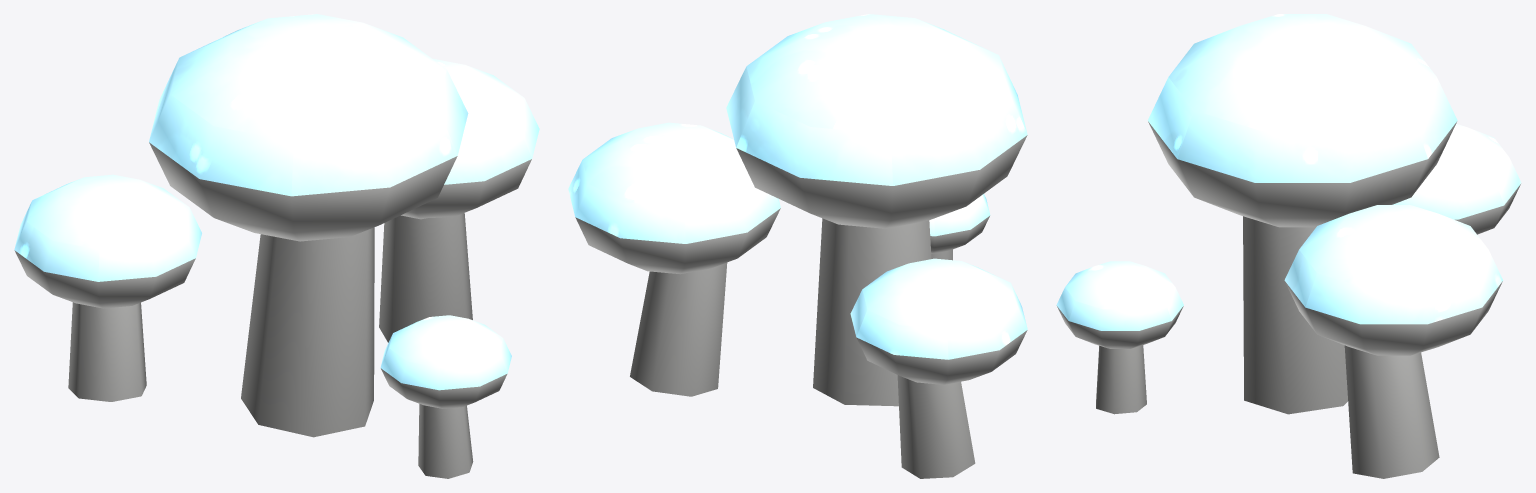
Rendered from SM_ENV_Mushroom_Cluster_Glow.fbx.
The picture shows the model from 3 angles, left to right: view 1: azimuth 30°, elevation 25°; view 2: azimuth 150°, elevation 25°; view 3: azimuth 270°, elevation 25°; orthographic projection. The views are drawn at different scales.
Visible parts, largest first — view 1: SM_ENV_Mushroom_Cluster_Glow; view 2: SM_ENV_Mushroom_Cluster_Glow; view 3: SM_ENV_Mushroom_Cluster_Glow.
Boxes of the visible parts, bbox=[...] form: SM_ENV_Mushroom_Cluster_Glow: bbox=[14, 14, 539, 478]; SM_ENV_Mushroom_Cluster_Glow: bbox=[568, 14, 1027, 478]; SM_ENV_Mushroom_Cluster_Glow: bbox=[1056, 14, 1521, 478].
Size of the model in its own units: 0.5692 by 0.432 by 0.51.
